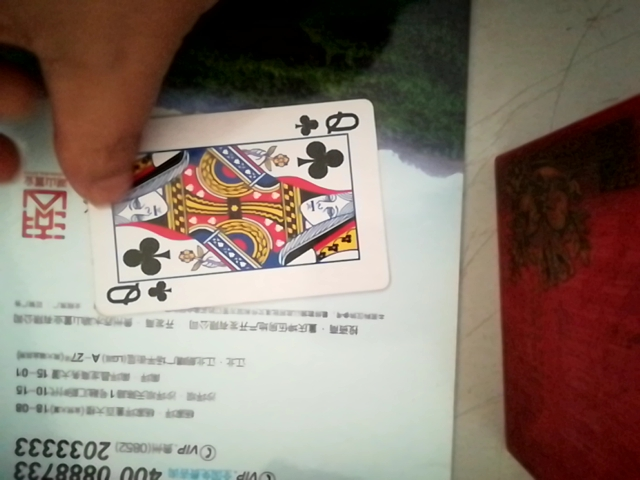mh q: (69, 91, 393, 313)
